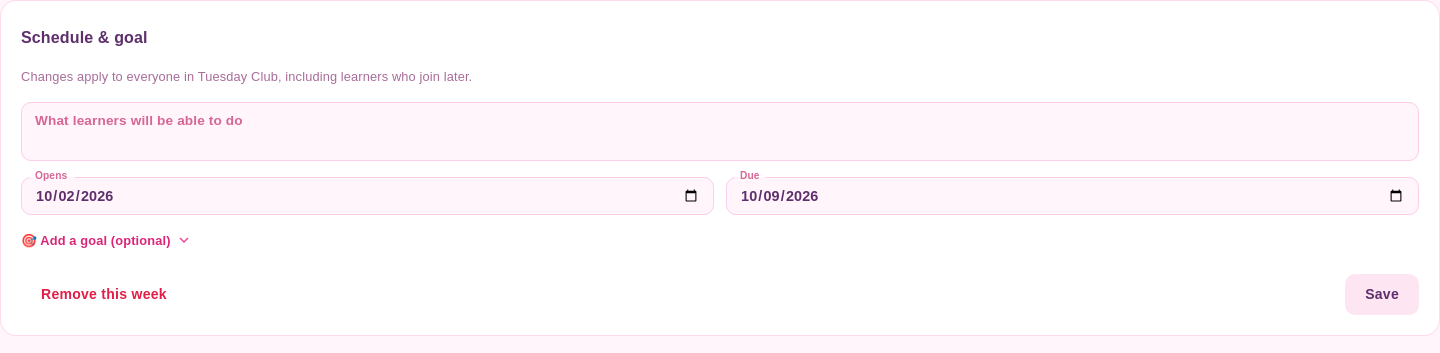
Test case: HandoutSettings › discards unsaved changes back to the saved values
Type "Draft" into the text box labelled "What learners will be able to do" at (720, 132), box [35,111,1405,153]
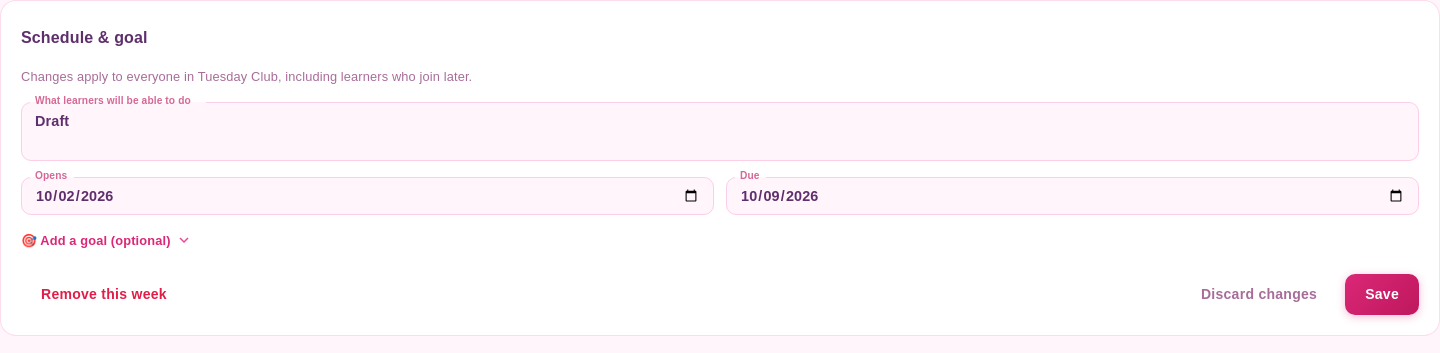
Click the button "Discard changes" at (1259, 294), box [1181,274,1337,315]
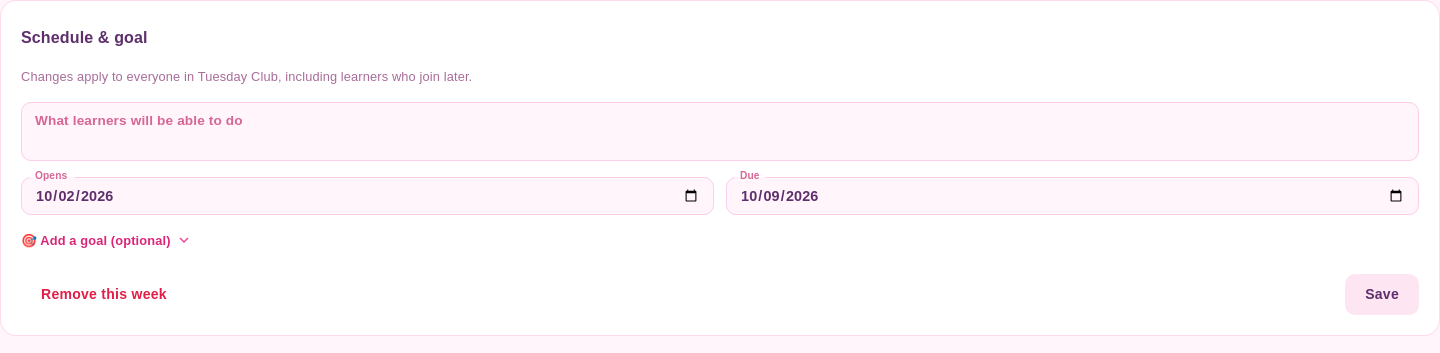
Now the text box labelled "What learners will be able to do" is empty, box [35,111,1405,153]
Now the button "Save" is disabled, box [1345,274,1419,315]
